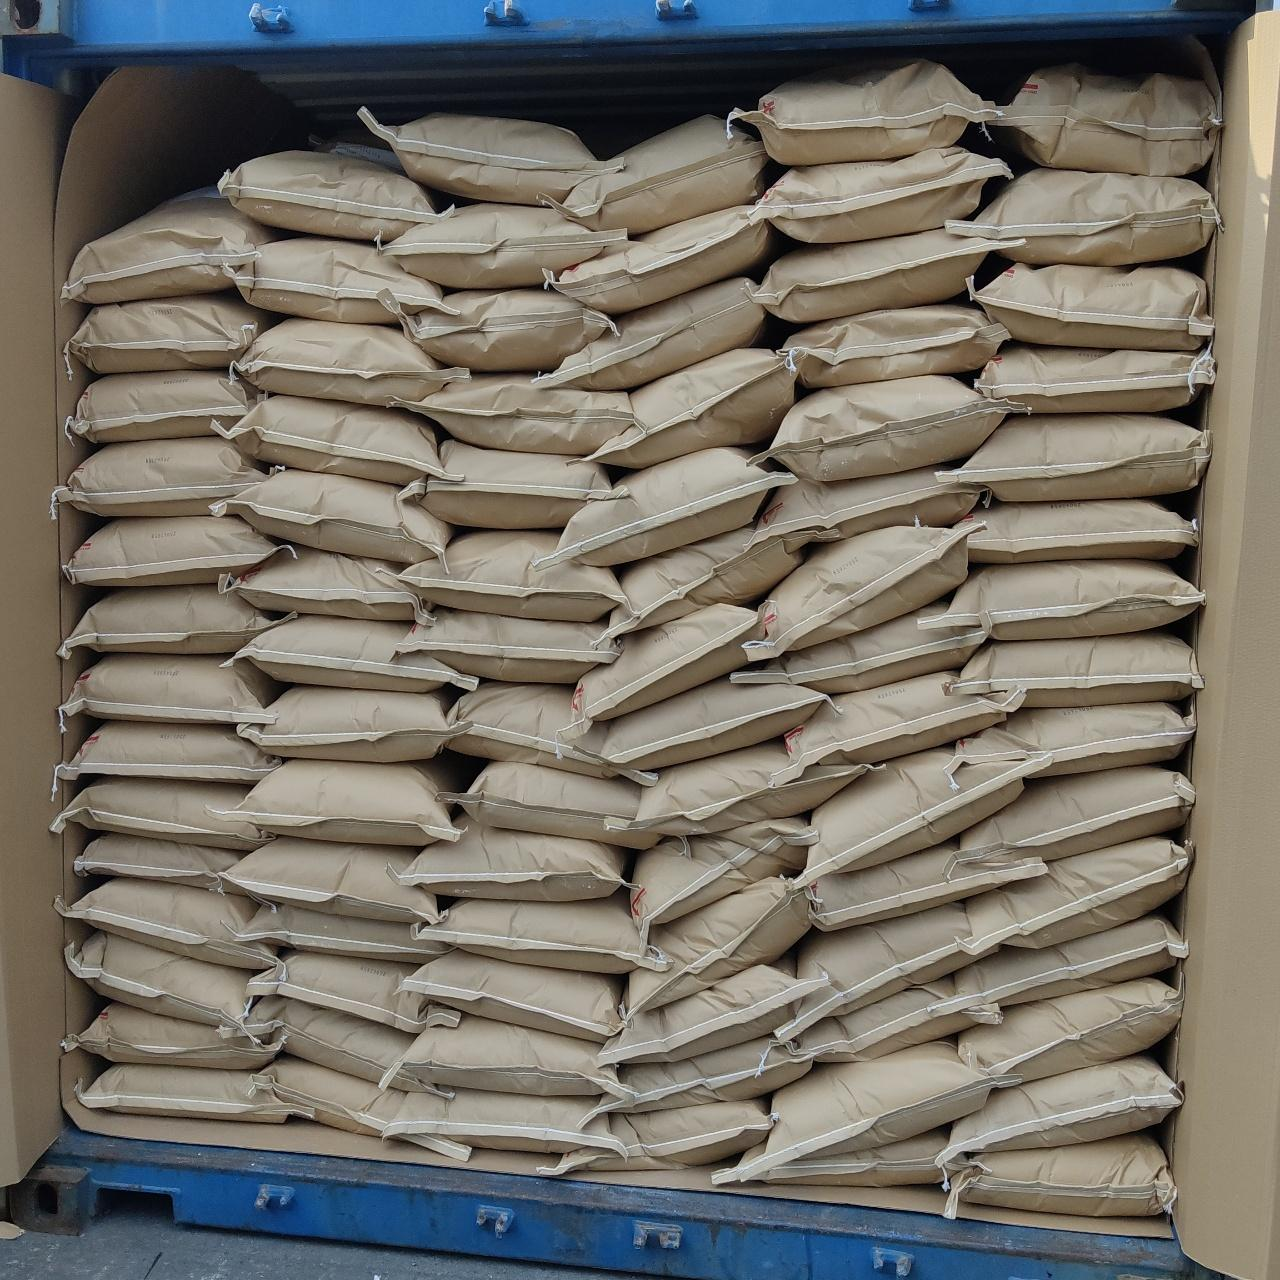sack: (734, 1039, 988, 1175), (743, 518, 983, 661), (796, 744, 1022, 886), (535, 448, 788, 574), (965, 835, 1192, 959), (775, 903, 975, 1042), (730, 60, 992, 164), (756, 376, 1012, 478), (538, 278, 765, 390), (604, 738, 865, 836), (982, 66, 1218, 173), (730, 595, 988, 694), (600, 952, 828, 1062), (948, 170, 1218, 263), (584, 348, 792, 468), (560, 116, 774, 232), (756, 147, 1012, 243), (626, 878, 806, 1014), (958, 976, 1180, 1085), (62, 190, 275, 302), (549, 207, 776, 312), (944, 1054, 1178, 1155), (251, 1057, 470, 1163), (960, 764, 1192, 862), (362, 114, 612, 204), (949, 414, 1208, 501), (212, 468, 450, 561), (602, 526, 802, 638), (218, 996, 445, 1094), (784, 672, 1014, 768), (754, 230, 992, 322), (595, 674, 828, 768), (218, 144, 444, 240), (954, 912, 1184, 1006), (808, 838, 1044, 928), (576, 606, 762, 719), (234, 318, 468, 406), (224, 394, 450, 484), (937, 560, 1200, 638), (377, 204, 626, 286), (974, 263, 1212, 348), (632, 816, 812, 928), (222, 760, 457, 845), (402, 530, 622, 620), (774, 974, 1000, 1062), (448, 682, 654, 778), (402, 949, 624, 1039), (954, 704, 1192, 787), (400, 813, 628, 898), (944, 1132, 1175, 1216), (57, 880, 275, 968), (416, 896, 663, 972), (222, 836, 438, 922), (388, 1014, 622, 1094), (400, 440, 614, 526), (782, 304, 1006, 386), (946, 629, 1198, 702), (406, 374, 638, 452), (238, 236, 440, 324), (229, 617, 474, 688), (753, 468, 980, 544), (66, 930, 246, 1024), (248, 949, 458, 1030), (70, 292, 275, 374), (458, 762, 656, 846), (54, 438, 270, 516), (404, 290, 614, 368), (978, 342, 1214, 411), (220, 546, 430, 622), (712, 1126, 967, 1189), (62, 584, 280, 656), (598, 1036, 812, 1110), (396, 608, 617, 680), (399, 1088, 628, 1156), (552, 1098, 770, 1170), (238, 685, 448, 758), (62, 654, 280, 724), (54, 778, 274, 847), (64, 516, 282, 584), (968, 498, 1196, 561), (64, 1002, 274, 1068), (56, 722, 278, 784), (68, 370, 260, 442), (234, 903, 450, 964), (76, 1064, 288, 1122), (74, 832, 238, 886)
